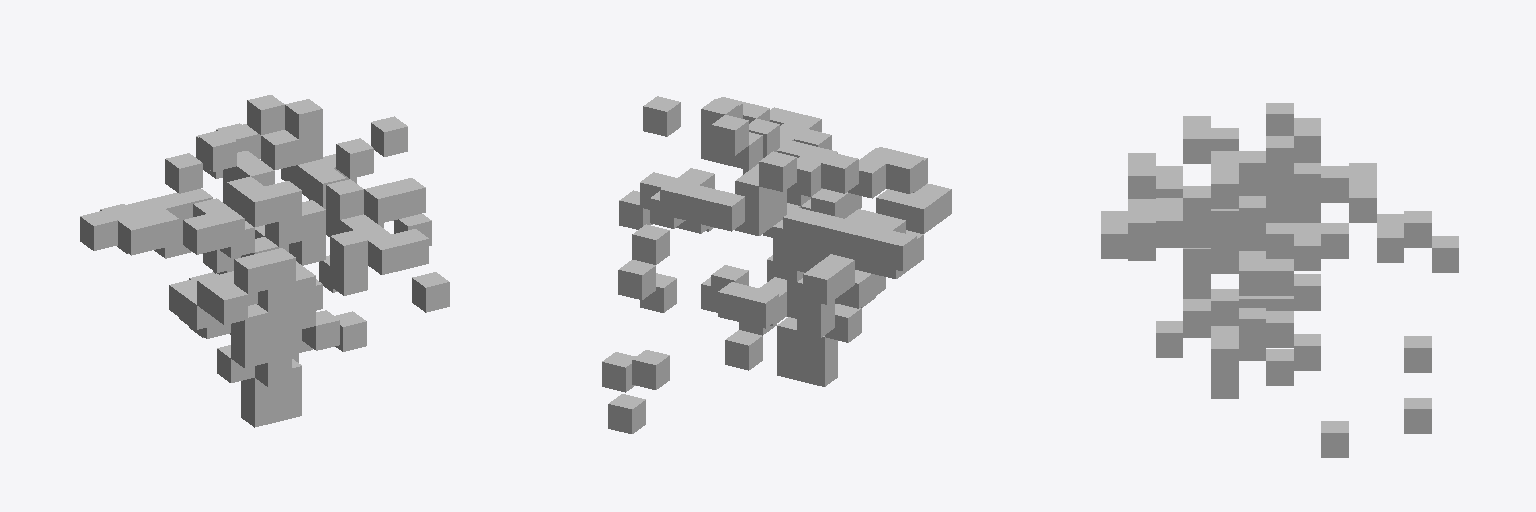
Rendered from Cliff_1-1.obj.
The picture shows the model from 3 angles: view 1: azimuth 30°, elevation 25°; view 2: azimuth 150°, elevation 25°; view 3: azimuth 270°, elevation 25°; orthographic projection.
Visible parts, largest first — view 1: object 1; view 2: object 1; view 3: object 1.
Part boxes in pixels (x1,y1,x2,y2): object 1: (80, 95, 449, 427); object 1: (602, 96, 951, 433); object 1: (1101, 103, 1458, 457).
Size of the model in its own units: 1.3 by 1.1 by 1.3.